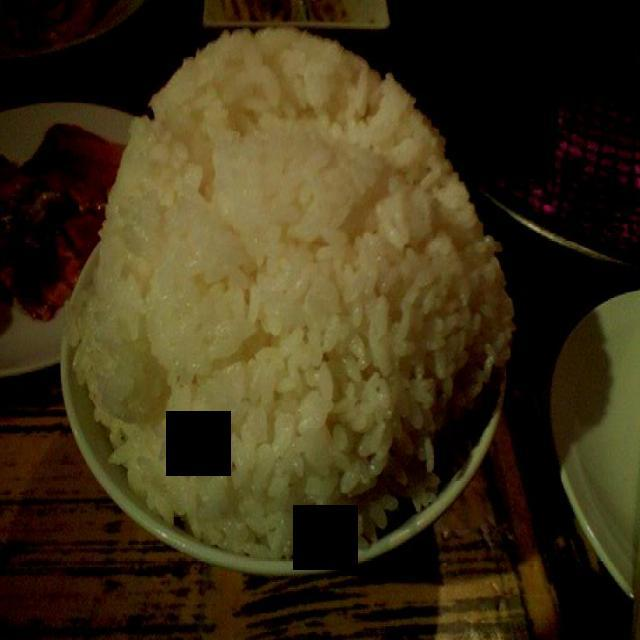rice: (75, 23, 515, 559)
